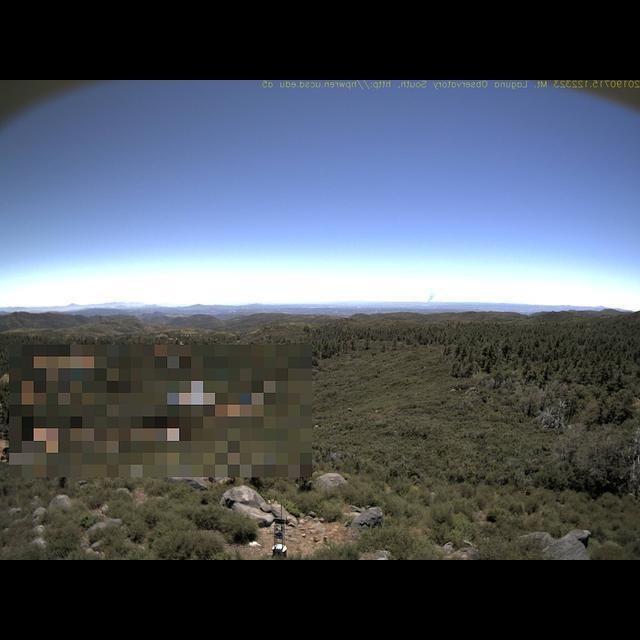Smoke: (422, 286, 442, 308)
